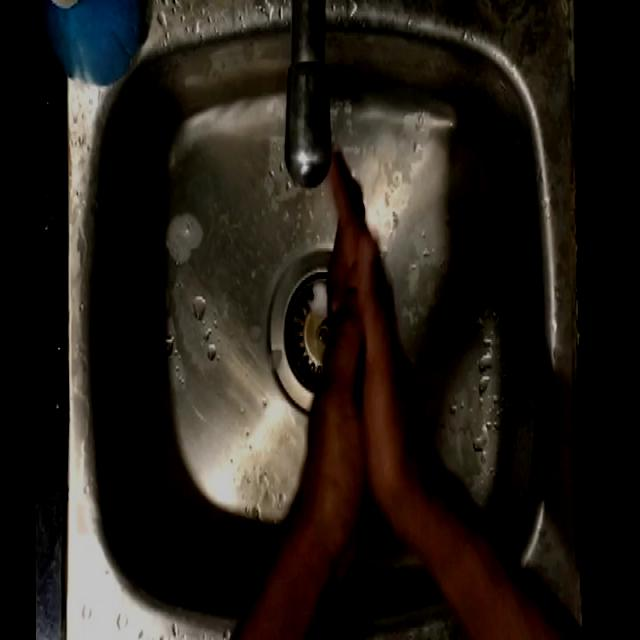step_1: (283, 138, 428, 472)
